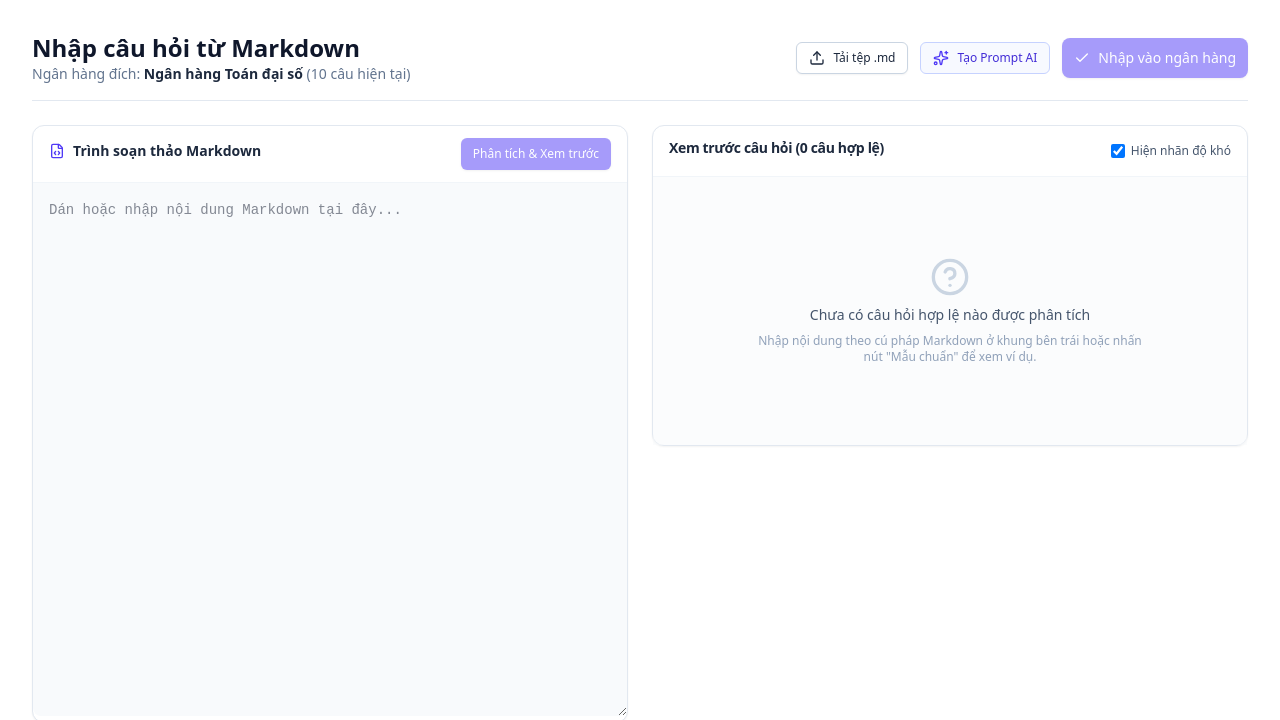
MarkdownImportPage › displays warning notice when question count exceeds 20 in GeneratePromptModal
The width and height of the screenshot is (1280, 720).
// Click "Tạo Prompt AI" button
Step 1. Click the button "Tạo Prompt AI" → (985, 58), box [920,42,1050,74]
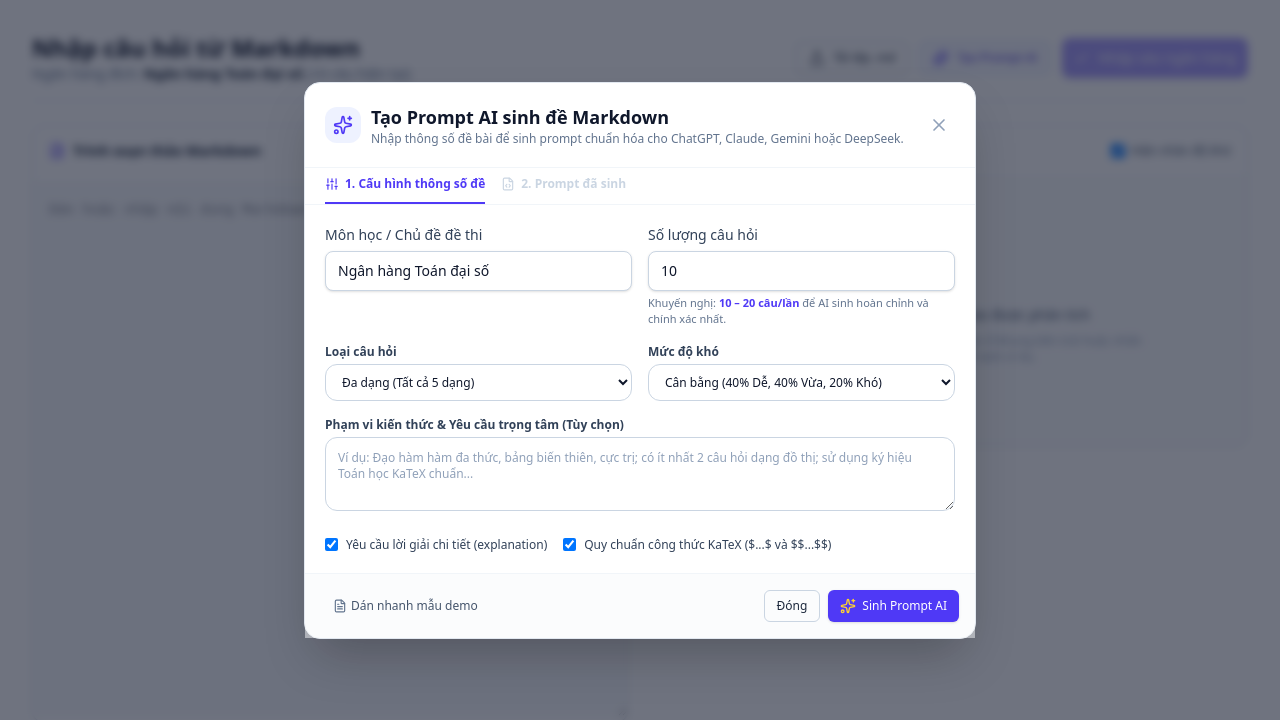
Check: the text "lưu ý khi tạo số lượng lớn" is not shown
// Change to 30
Step 2. Replace the text in the number field labelled "Số lượng câu hỏi" with "30" → (802, 270), box [648,250,955,290]
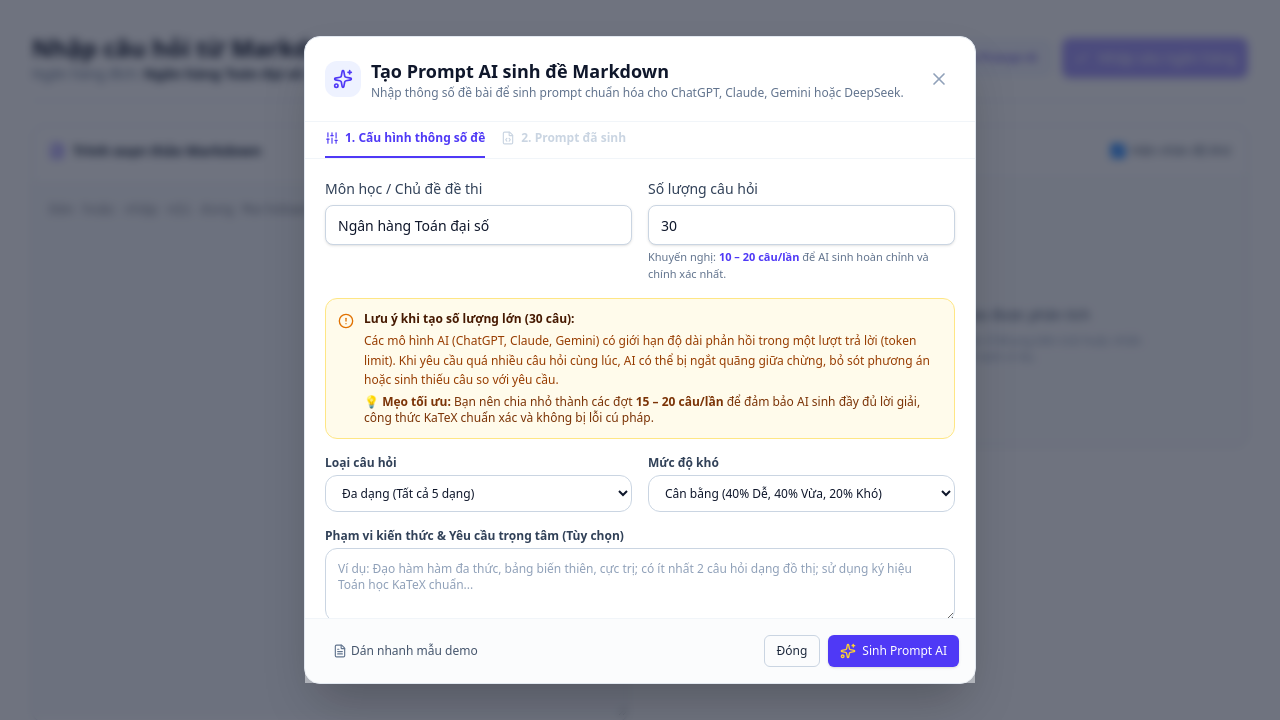
Check: the text "Lưu ý khi tạo số lượng lớn (30 câu):" is shown, box [364,310,574,327]
Check: the text "giới hạn độ dài phản hồi" is shown, box [364,332,930,388]
